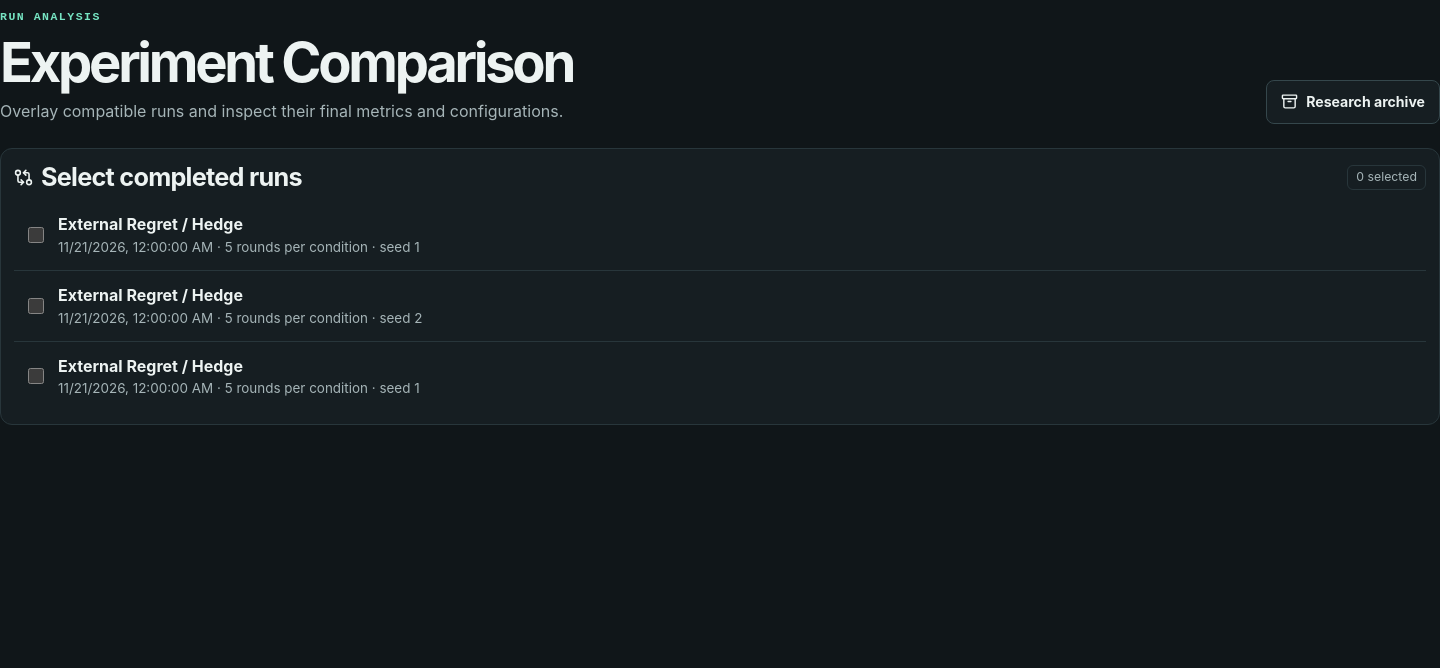
Test: results › describes configuration and condition matches while keeping charts and exports available
Later steps or results of the test are not shown.
Click the 1st checkbox.
click(36, 235)  # box x1=28 y1=227 x2=44 y2=243
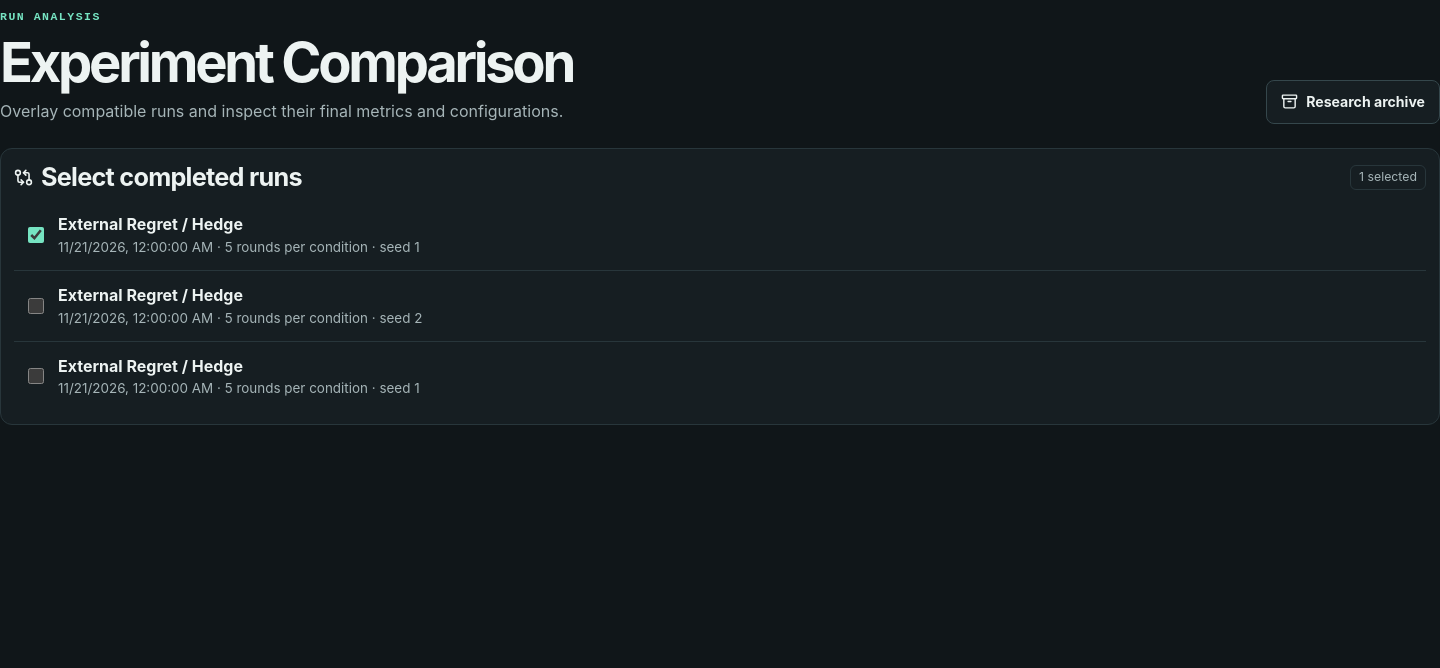
Click the 2nd checkbox.
click(36, 306)  # box x1=28 y1=298 x2=44 y2=314
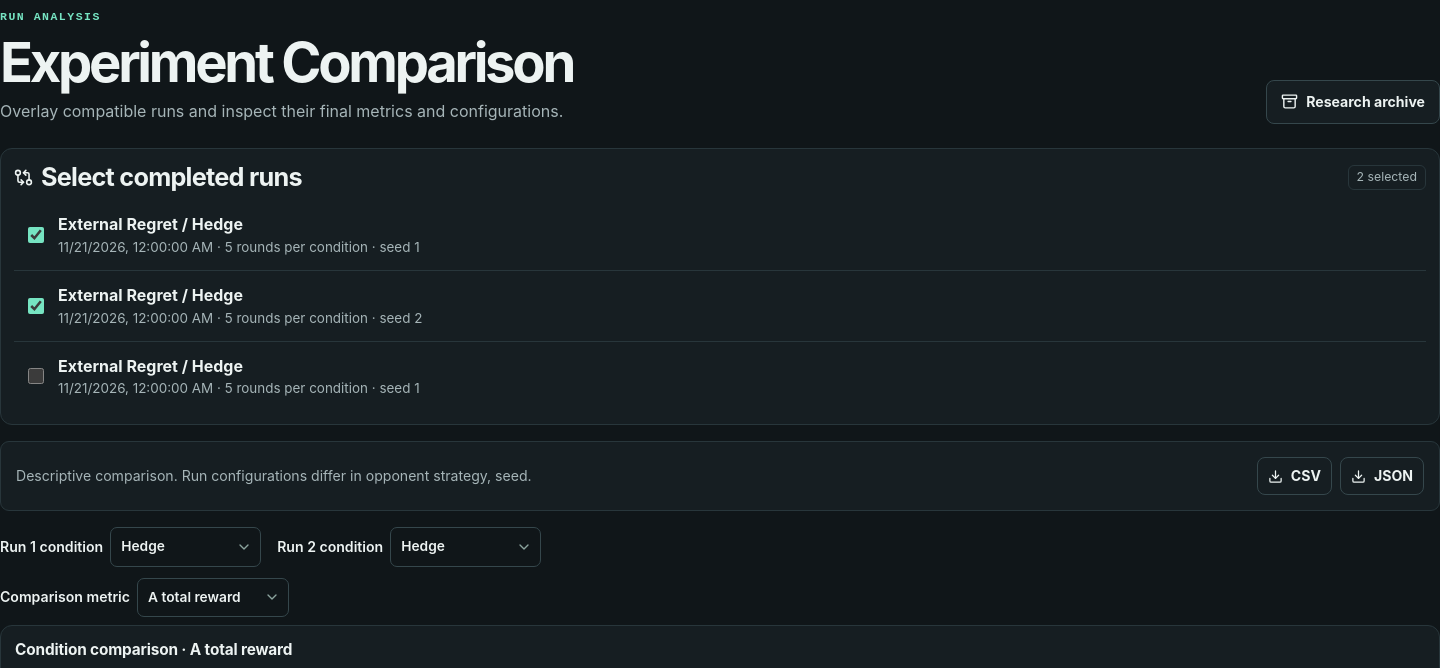
Click the 2nd checkbox.
click(36, 306)  # box x1=28 y1=298 x2=44 y2=314
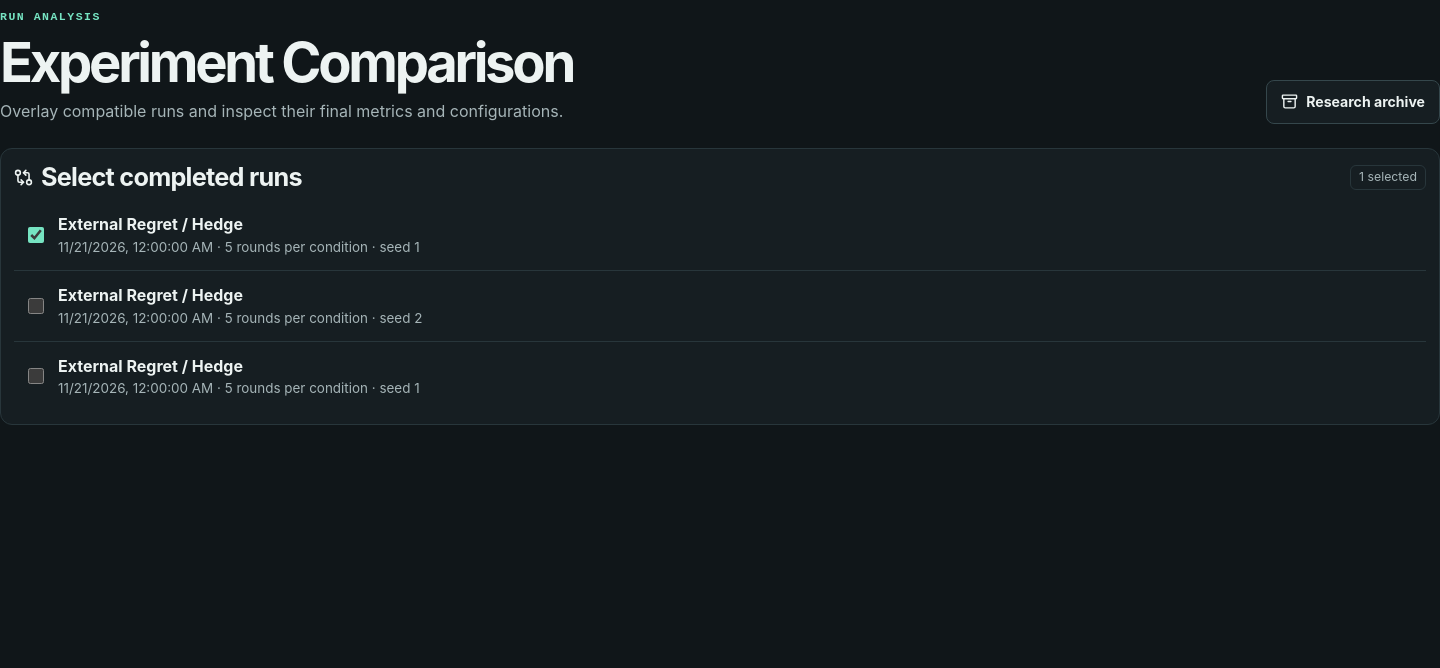
Click the 3rd checkbox.
click(36, 376)  # box x1=28 y1=368 x2=44 y2=384
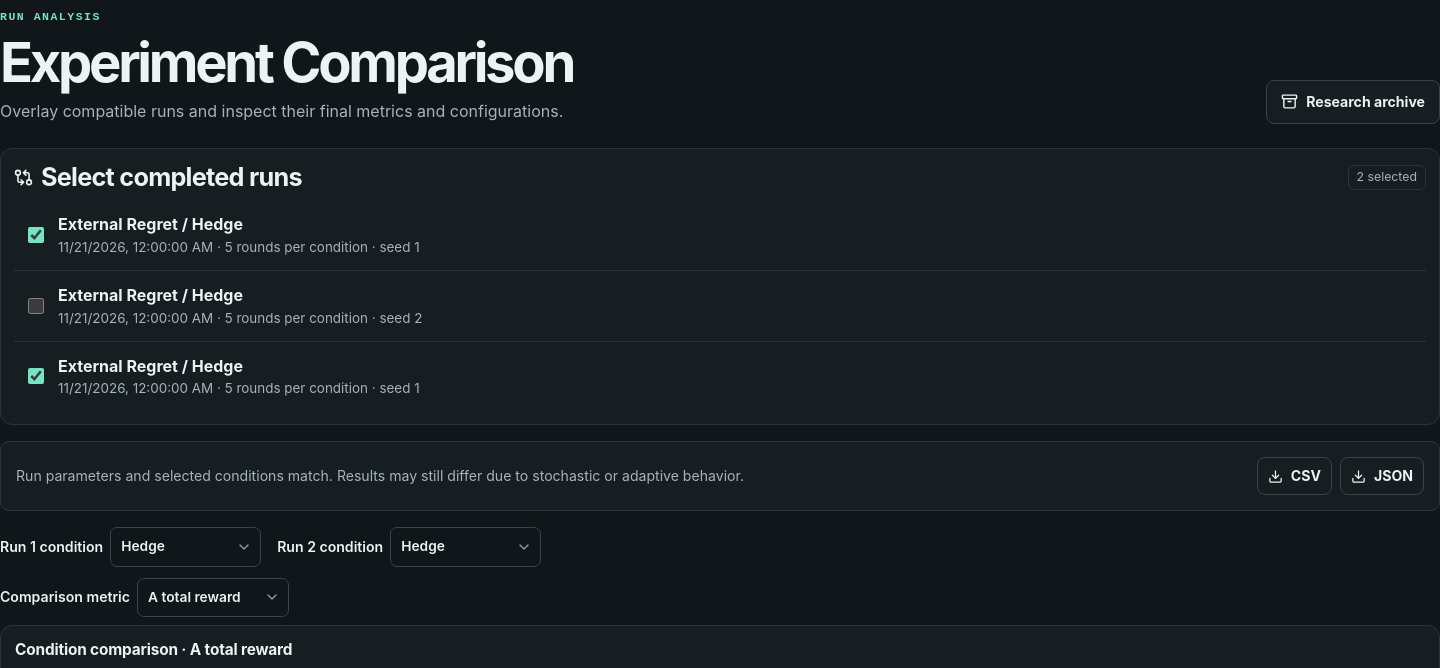
Select "Regret matching" in the dropdown labelled "Run 2 condition" at (466, 547), box x1=390 y1=527 x2=541 y2=566
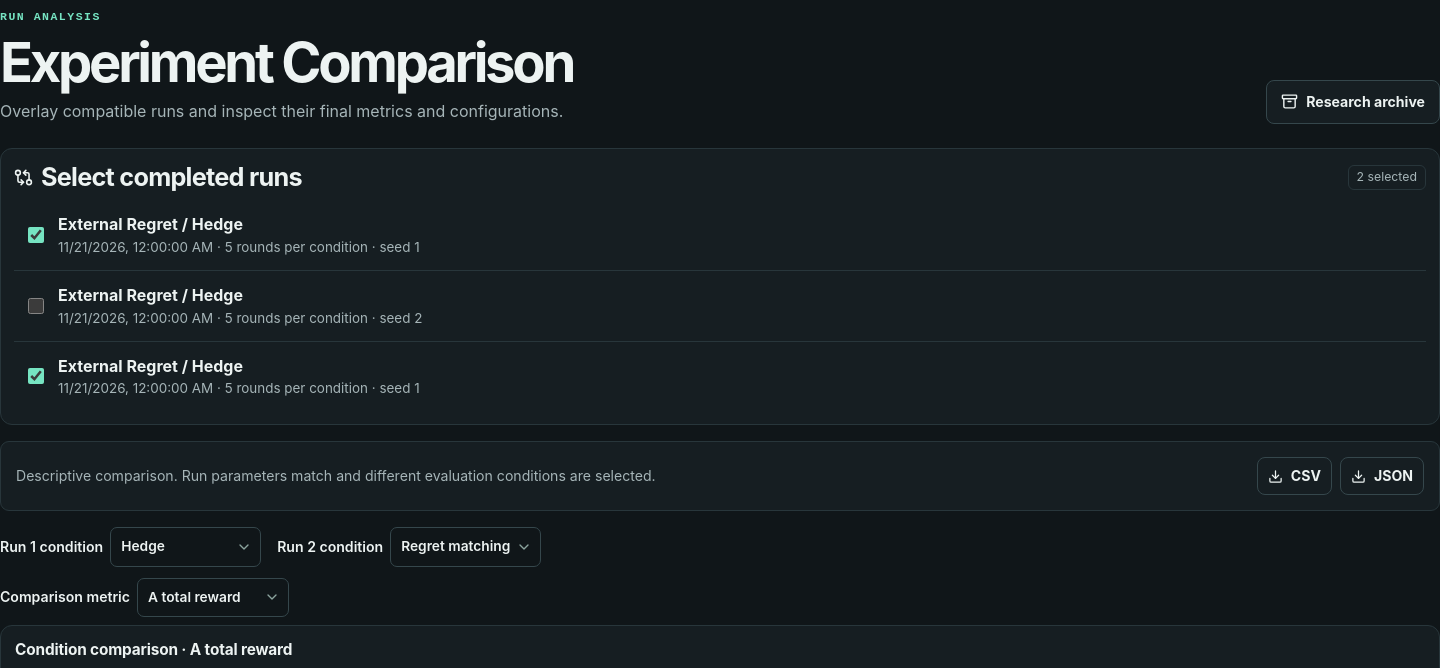
Check: the button "CSV" is shown, box x1=1257 y1=457 x2=1332 y2=495
Check: the button "JSON" is shown, box x1=1340 y1=457 x2=1424 y2=495
